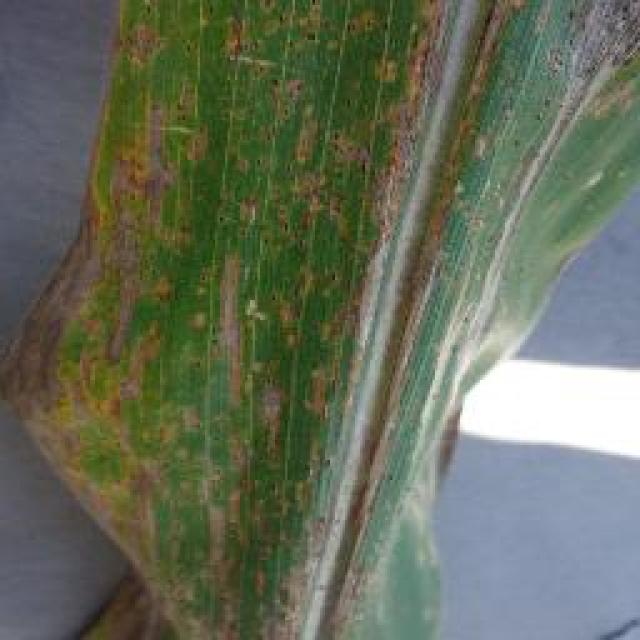Corn___Cercospora_leaf_spot Gray_leaf_spot: (114, 0, 465, 640)
